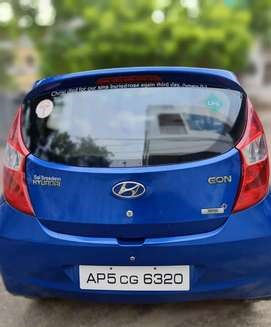AP5CG6320: (79, 265, 190, 290)
